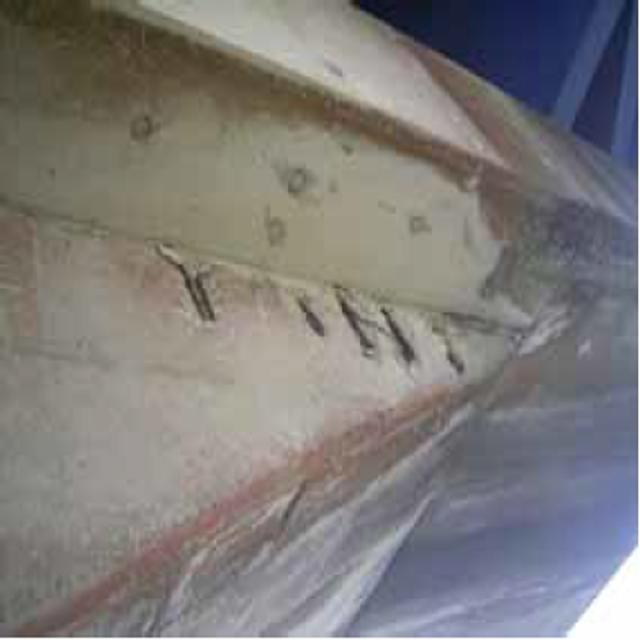spalling: (154, 234, 486, 409)
